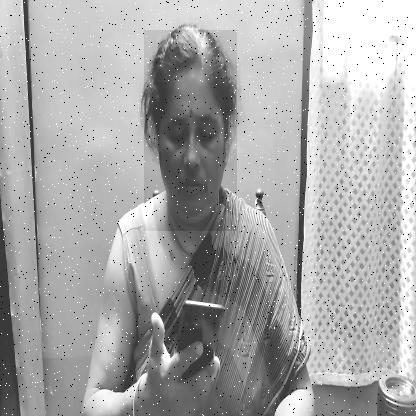Distracted: (144, 30, 237, 231)
